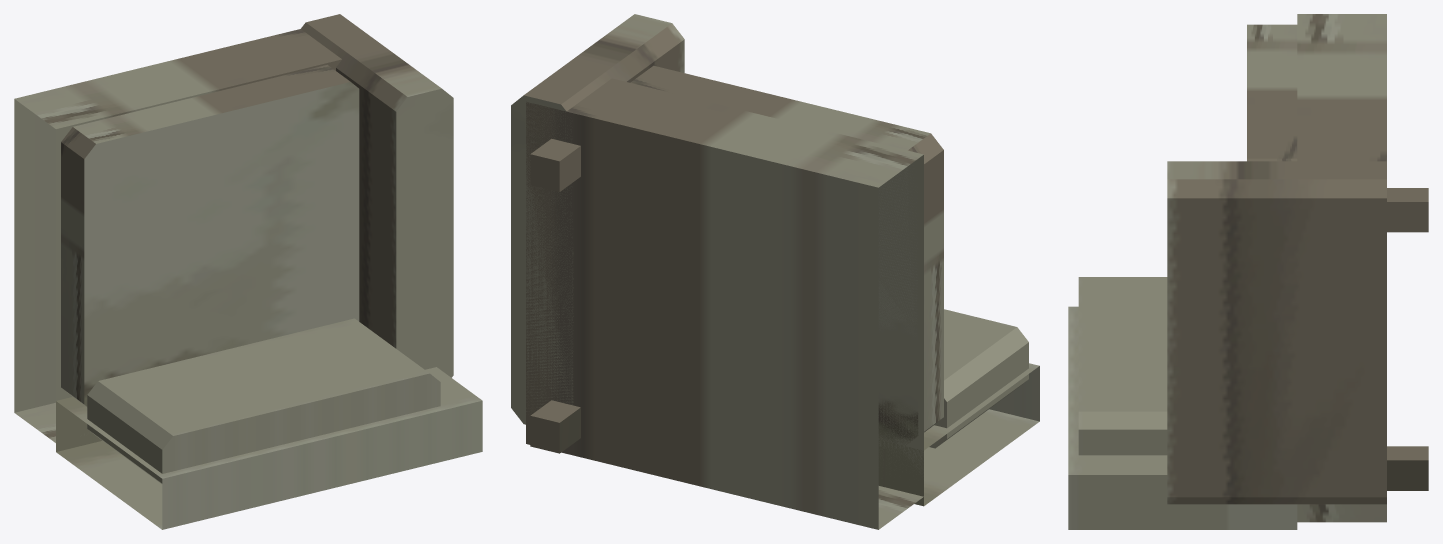
File: pz_sofa_seating_indoor_03_light_blue_1_0.obj
The picture shows the model from 3 angles, left to right: view 1: azimuth 30°, elevation 25°; view 2: azimuth 150°, elevation 25°; view 3: azimuth 270°, elevation 25°; orthographic projection. The views are drawn at different scales.
Size of the model in its own units: 1 by 0.93 by 0.86.
1 material, 1 textured.
